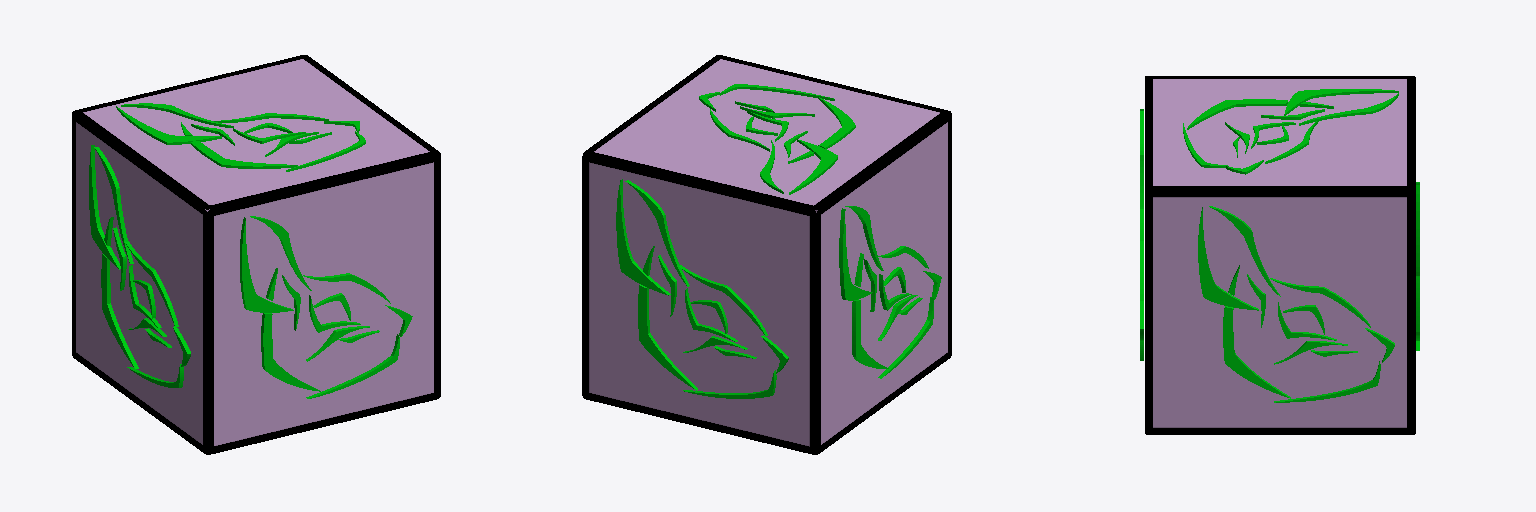
The picture shows the model from 3 angles: view 1: azimuth 30°, elevation 25°; view 2: azimuth 150°, elevation 25°; view 3: azimuth 270°, elevation 25°; orthographic projection.
Visible parts, largest first — view 1: Cube, Cube.001; view 2: Cube, Cube.001; view 3: Cube, Cube.001.
Part boxes in pixels (left/top/right/bottom): Cube: left=72, top=55, right=440, bottom=454; Cube.001: left=89, top=103, right=412, bottom=398; Cube: left=582, top=55, right=951, bottom=454; Cube.001: left=616, top=84, right=941, bottom=398; Cube: left=1145, top=76, right=1415, bottom=434; Cube.001: left=1140, top=89, right=1419, bottom=402.
Bounding box in the file's own units: 1.03 × 1.03 × 1.04.
2 materials, 1 textured.